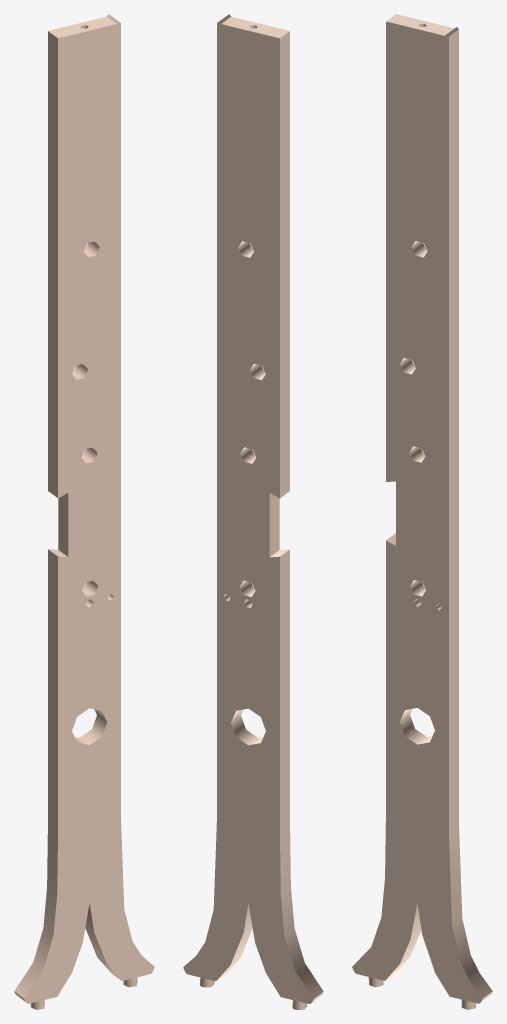
File: Pilier Mouvement_arriere.obj
3 views of the same model, side by side, from view 1: azimuth 30°, elevation 25°; view 2: azimuth 150°, elevation 25°; view 3: azimuth 330°, elevation 25° (orthographic).
Parts seen in each view (by area): view 1: Face_15, Face_1, Face_12, Face_11, Face_32, Face_13, Face_28, Face_8; view 2: Face_14, Face_1, Face_12, Face_11, Face_32, Face_13, Face_28, Face_8; view 3: Face_15, Face_5, Face_6, Face_13, Face_28, Face_9.
Boxes of the visible parts, x1,y1,x2,y2 form: Face_15: (24, 21, 154, 1003); Face_1: (48, 31, 57, 497); Face_12: (48, 549, 57, 835); Face_11: (14, 828, 57, 998); Face_32: (58, 493, 68, 556); Face_13: (48, 16, 115, 38); Face_28: (74, 709, 106, 744); Face_8: (85, 904, 121, 980); Face_14: (183, 22, 313, 1003); Face_1: (280, 31, 289, 497); Face_12: (280, 549, 289, 835); Face_11: (280, 829, 323, 998); Face_32: (269, 493, 279, 556); Face_13: (222, 16, 289, 38); Face_28: (231, 709, 263, 745); Face_8: (217, 904, 252, 980); Face_15: (352, 21, 482, 1003); Face_5: (449, 30, 458, 834); Face_6: (449, 828, 492, 998); Face_13: (386, 14, 453, 35); Face_28: (400, 709, 432, 744); Face_9: (386, 903, 421, 979).
Size of the model in its own units: 0.0445 by 0.3166 by 0.006.
